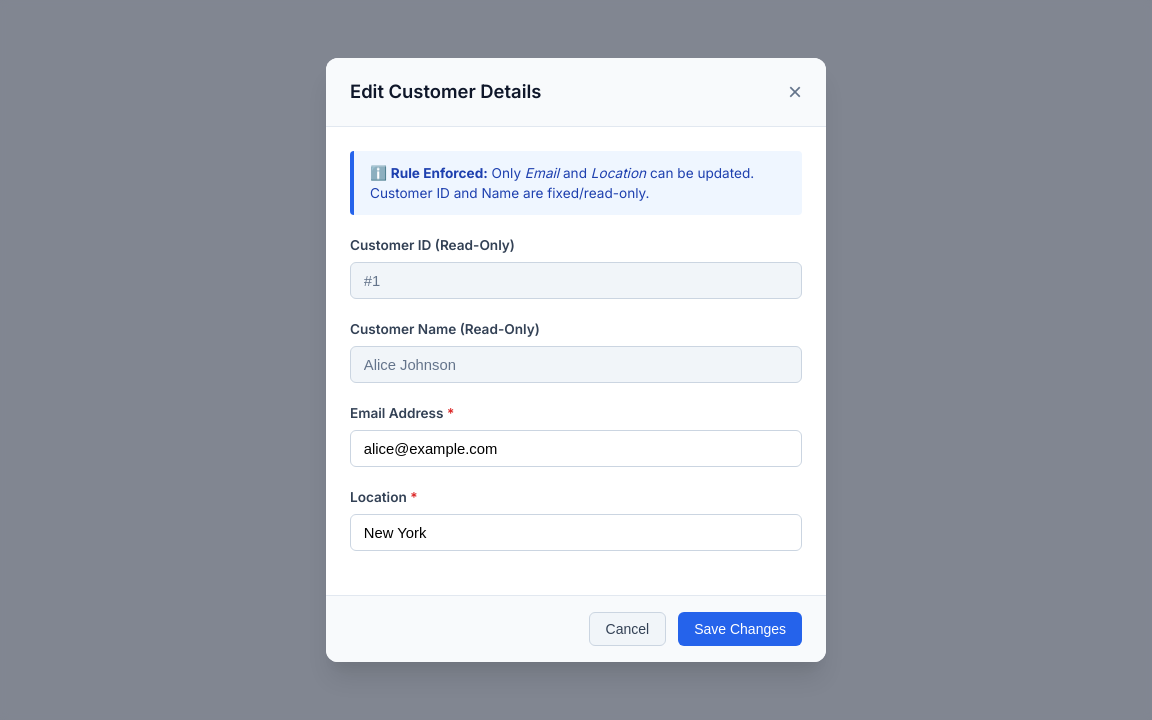
it: EditCustomerModal Component Unit Tests › shows client-side validation errors when email or location are cleared
Step 1. Clear the field labelled "Email Address *" → (576, 449), box [350, 430, 802, 467]
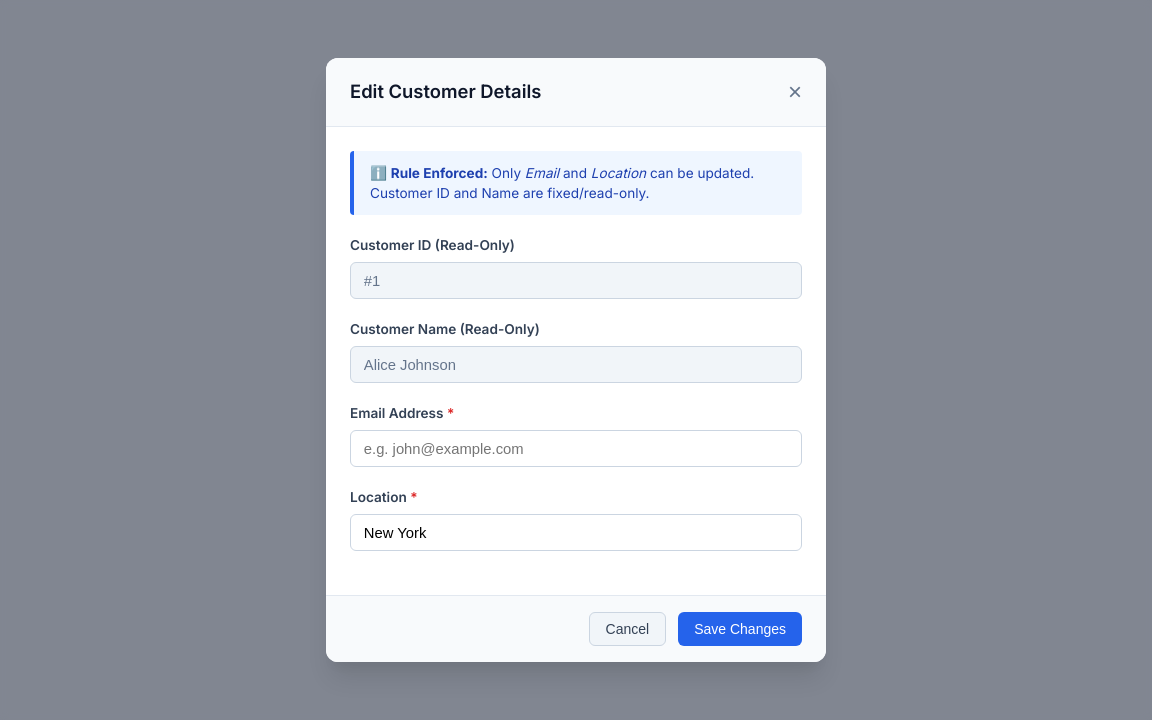
Step 2. Click the button "Save Changes" → (740, 629), box [678, 612, 802, 646]
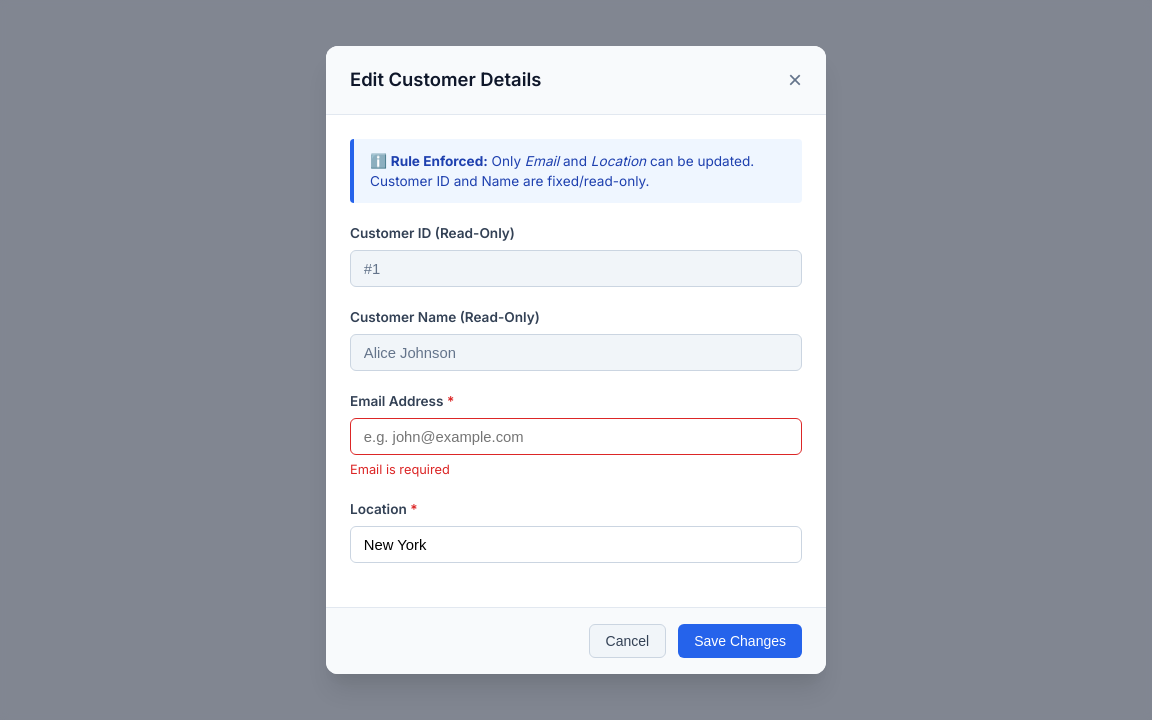
Now the text "Email is required" is shown, box [350, 462, 450, 477]
